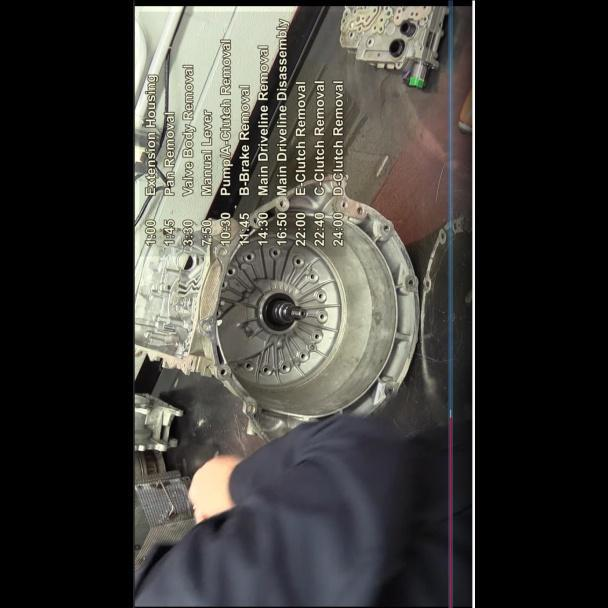hole: (218, 366, 228, 377), (353, 205, 366, 213), (406, 278, 415, 286)
